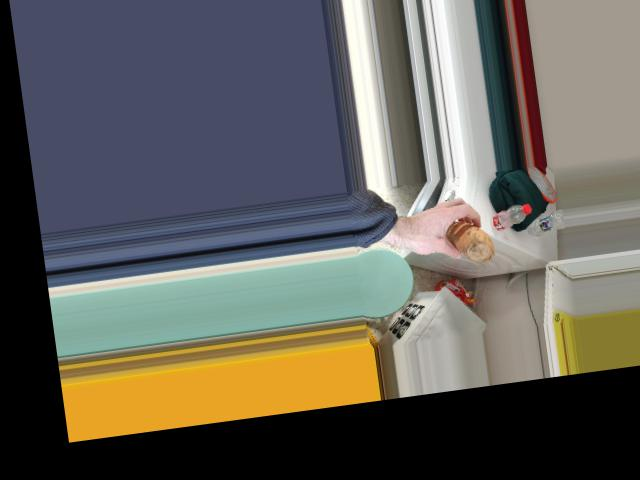sweet_potato: (441, 217, 494, 264)
